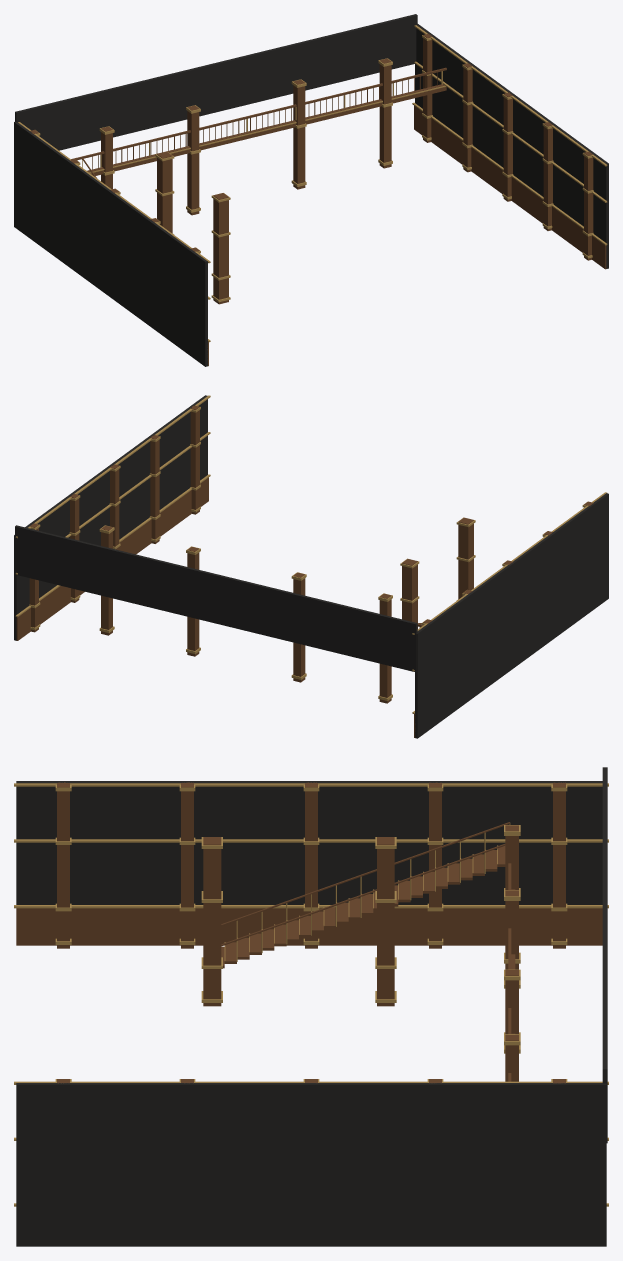
File: salon_architecture.glb
The picture shows the model from 3 angles, top to bottom: view 1: azimuth 30°, elevation 25°; view 2: azimuth 150°, elevation 25°; view 3: azimuth 270°, elevation 25°; orthographic projection. The views are drawn at different scales.
Visible parts, largest first — view 1: Palette, Walnut; view 2: Palette, Walnut; view 3: Palette, Walnut.
Part boxes in pixels (x1=…): Palette: x1=14, y1=14, x2=608, y2=366; Walnut: x1=30, y1=33, x2=606, y2=366; Palette: x1=14, y1=395, x2=608, y2=738; Walnut: x1=16, y1=405, x2=593, y2=737; Palette: x1=14, y1=767, x2=608, y2=1246; Walnut: x1=16, y1=782, x2=602, y2=1083.
Size of the model in its own units: 28.98 by 7.85 by 24.
